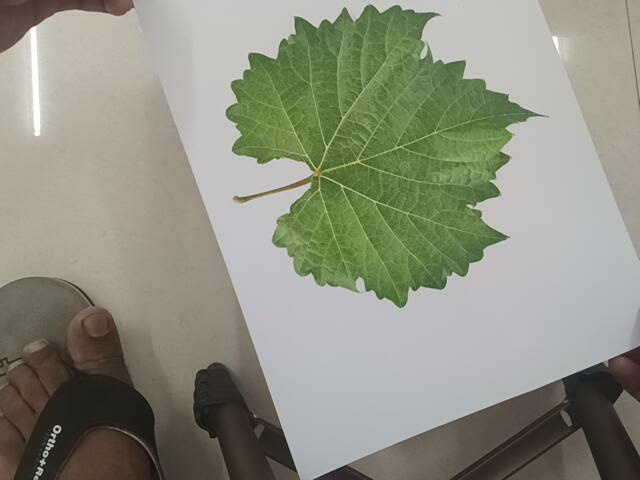Grape_Healthy: (222, 3, 553, 310)
